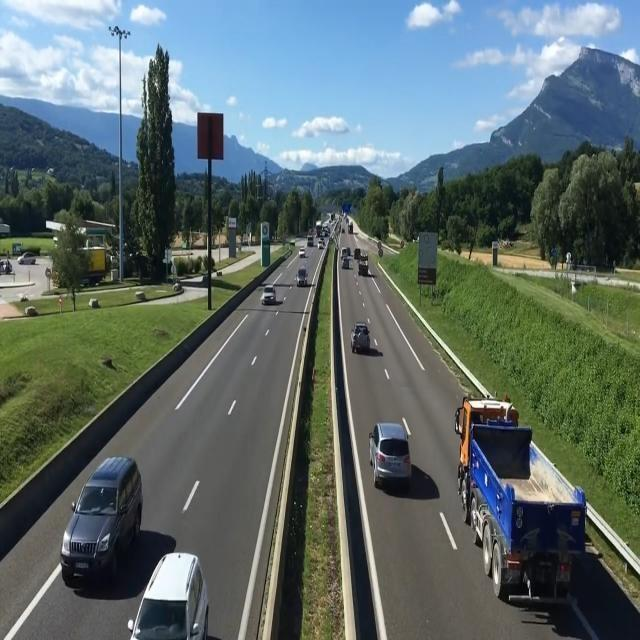Car: (56, 456, 150, 579), (122, 547, 218, 639), (355, 418, 428, 494), (351, 322, 371, 356), (260, 282, 278, 306), (294, 266, 311, 285), (340, 257, 351, 269), (298, 244, 308, 257), (316, 240, 325, 250)
Truck: (451, 384, 598, 611), (356, 253, 371, 277)
